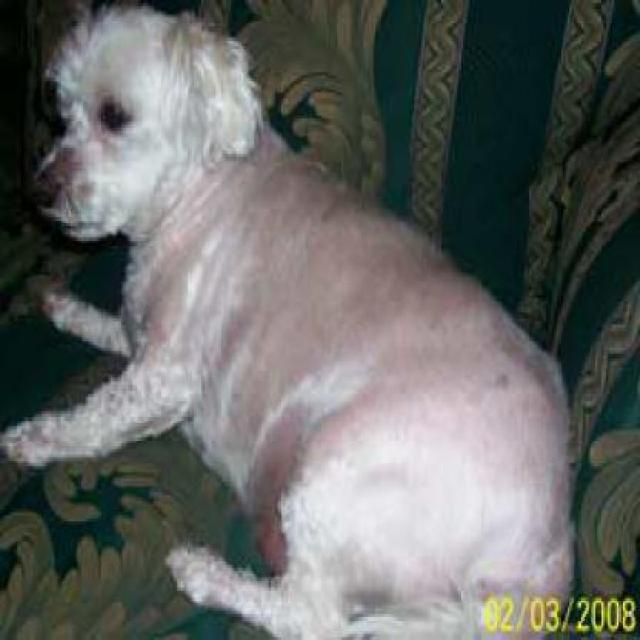Dog: (3, 0, 582, 637)
